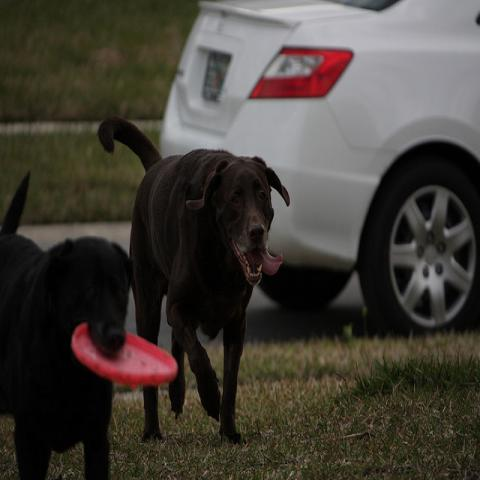car: (158, 1, 480, 340)
